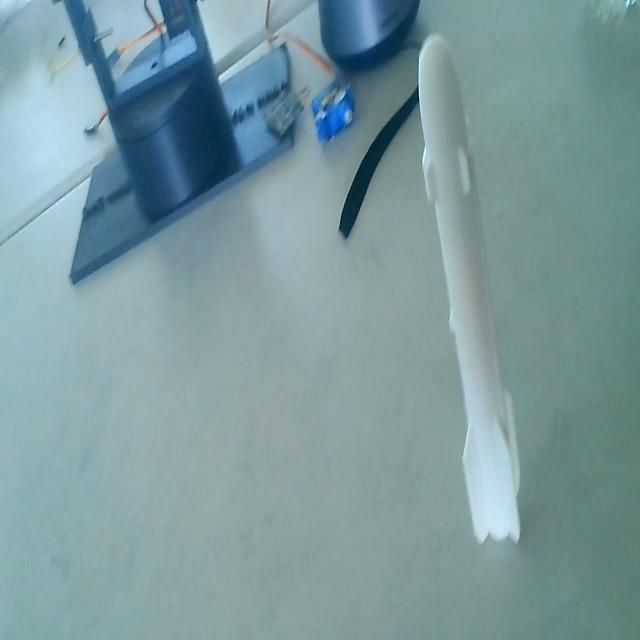Rocket: (416, 29, 526, 551)
